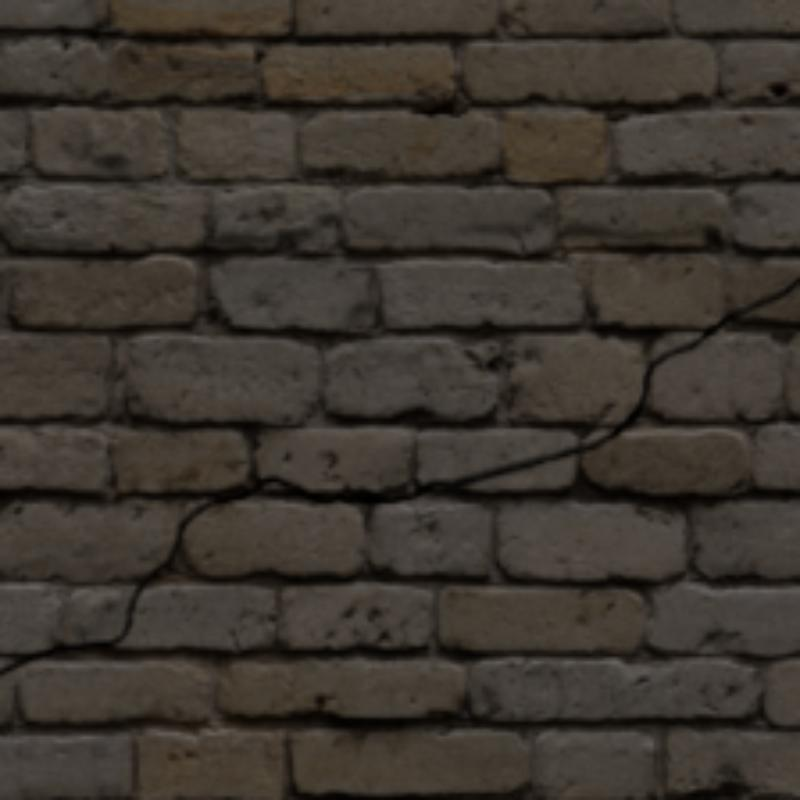pothole: (0, 279, 796, 676)
